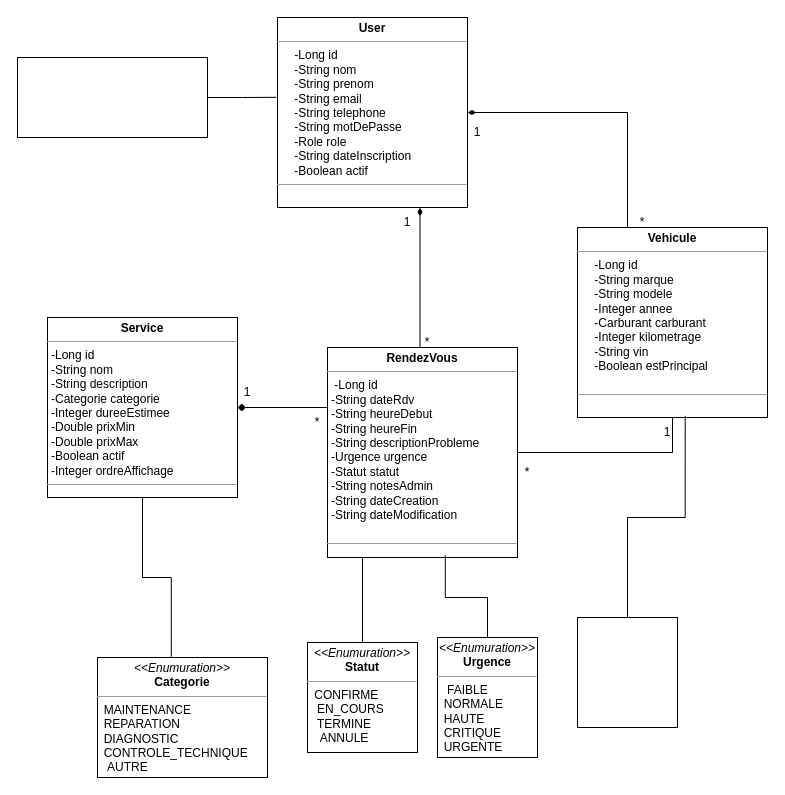
Image size: 785x795. Some labels were removed from this diagram. The shapes that lost their labels are listed below. From the top down, each one's box as (x1, y1, x2, y2) in pixels, then its label:
(16, 56, 208, 138): <<Enumuration>> Role CLIENT ADMIN
(576, 616, 678, 728): <<Enumuration>> Carburant ESSENCE DIESEL HYBRIDE ELECTRIQUE
